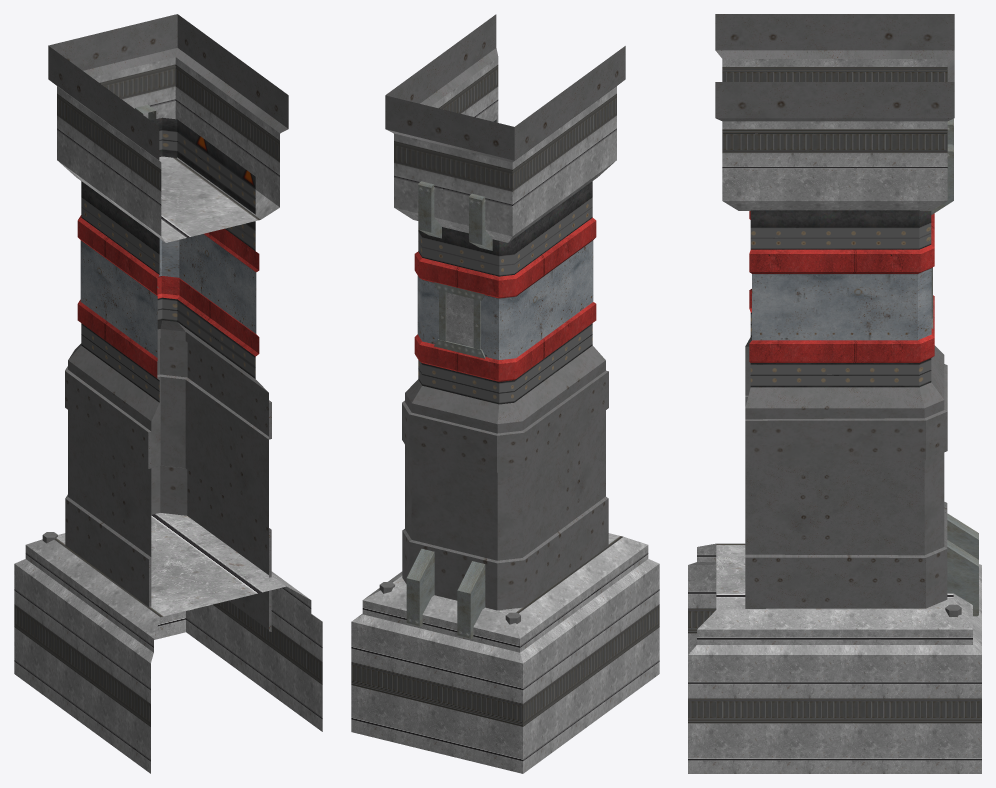
Rendered from Ob_FactorySupport3_RC.fbx.
The picture shows the model from 3 angles, left to right: view 1: azimuth 30°, elevation 25°; view 2: azimuth 150°, elevation 25°; view 3: azimuth 270°, elevation 25°; orthographic projection. The views are drawn at different scales.
Visible parts, largest first — view 1: Ob_FactorySupport3_RC; view 2: Ob_FactorySupport3_RC; view 3: Ob_FactorySupport3_RC.
Part boxes in pixels (x1,y1,x2,y2): Ob_FactorySupport3_RC: (14,14,322,773); Ob_FactorySupport3_RC: (351,14,659,773); Ob_FactorySupport3_RC: (688,14,981,773).
Bounding box in the file's own units: 1585 × 5584 × 2183.
